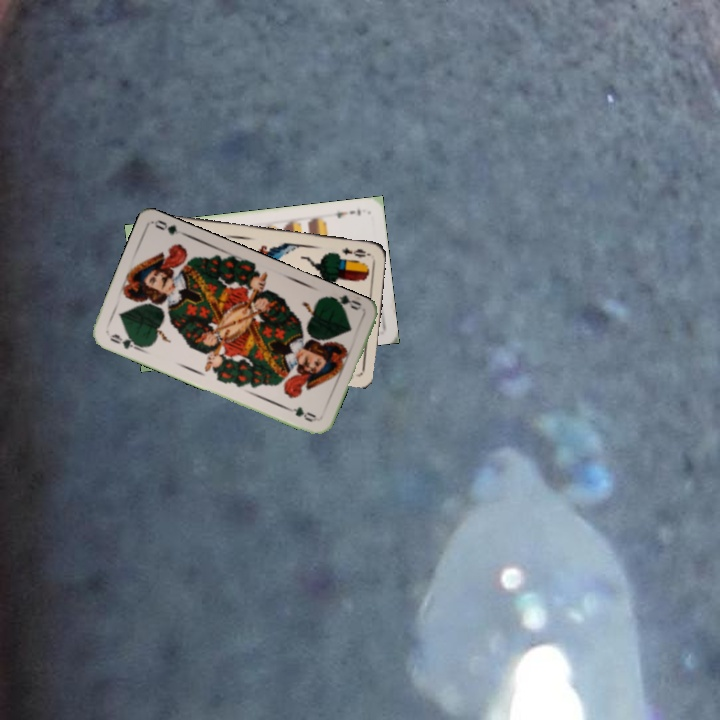E7: (332, 205, 363, 221)
EO: (337, 243, 373, 260)
GO: (106, 329, 144, 354), (325, 292, 365, 313)
